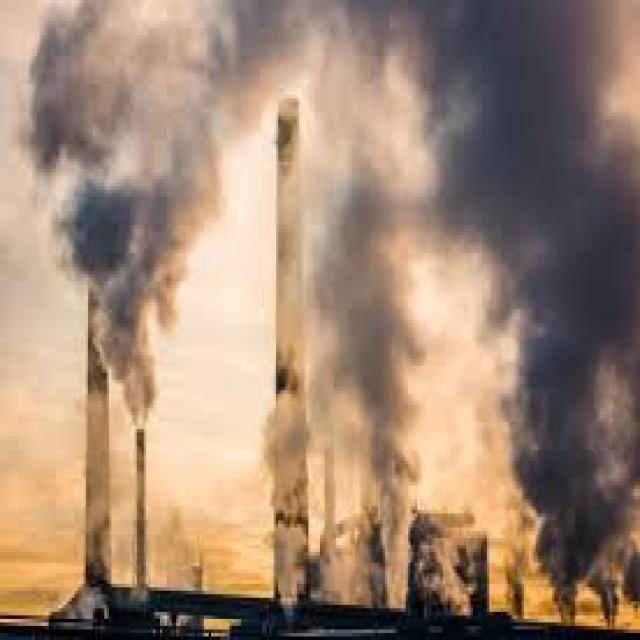Smoke: (457, 9, 633, 610), (21, 16, 239, 418), (276, 55, 429, 555)
